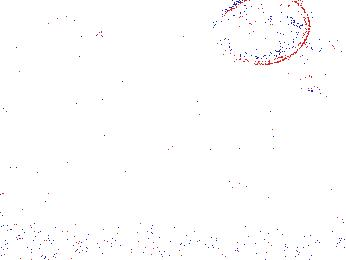moon jellyfish: (212, 1, 311, 66), (54, 26, 104, 93), (282, 44, 341, 91), (28, 1, 116, 26), (1, 37, 23, 99)
